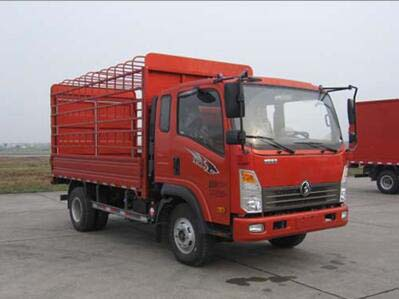smalltruck: (34, 47, 367, 280)
